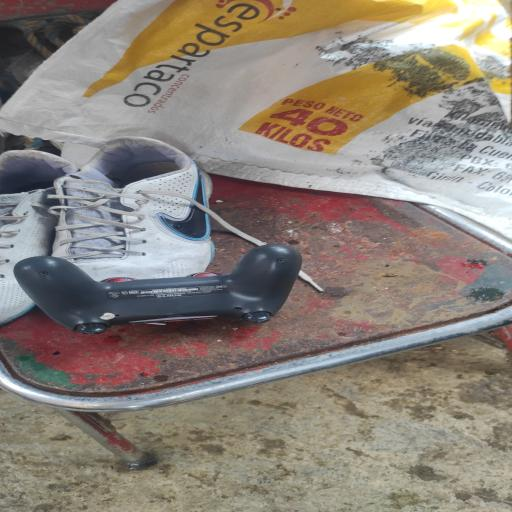ControlPlay4: (16, 244, 301, 334)
